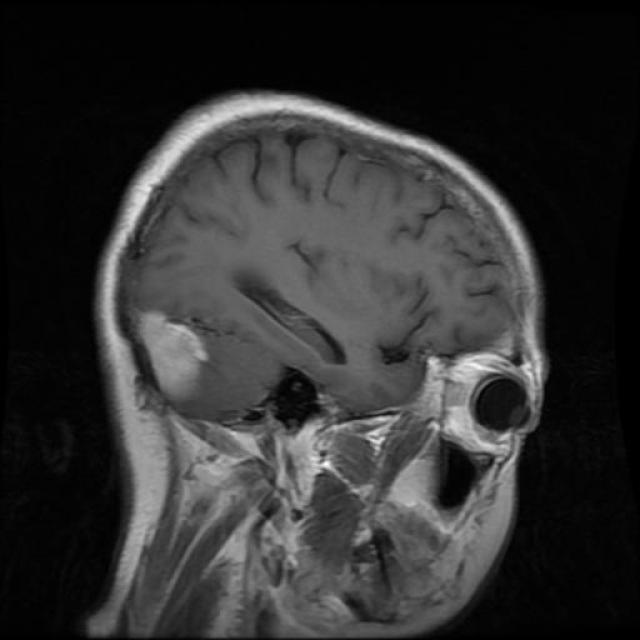meningioma: (140, 312, 206, 402)
